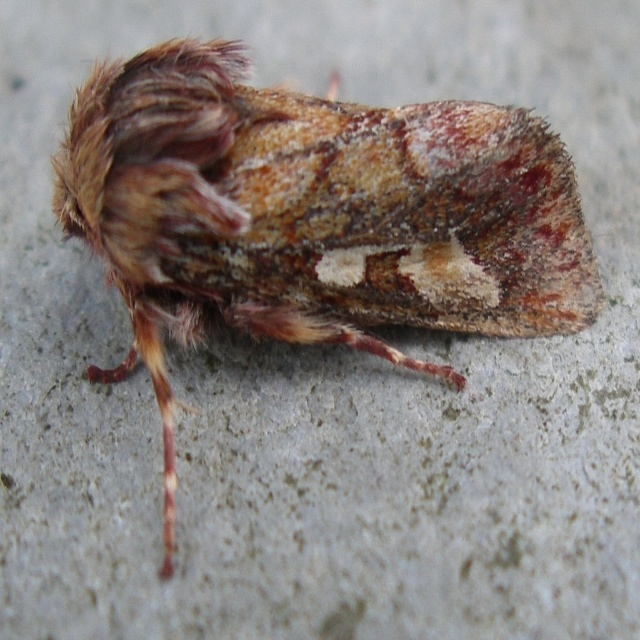Moths and butterflies: (51, 35, 605, 584)
